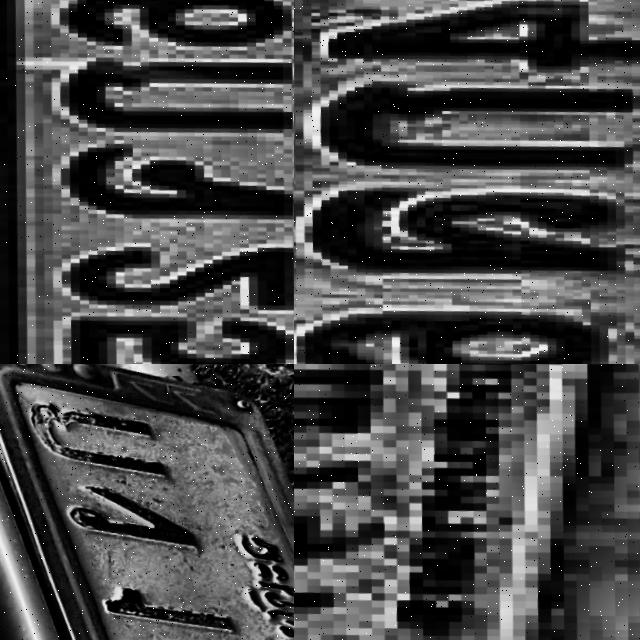license-plate: (294, 0, 640, 364), (0, 0, 294, 364), (294, 364, 640, 640), (0, 364, 294, 640)
